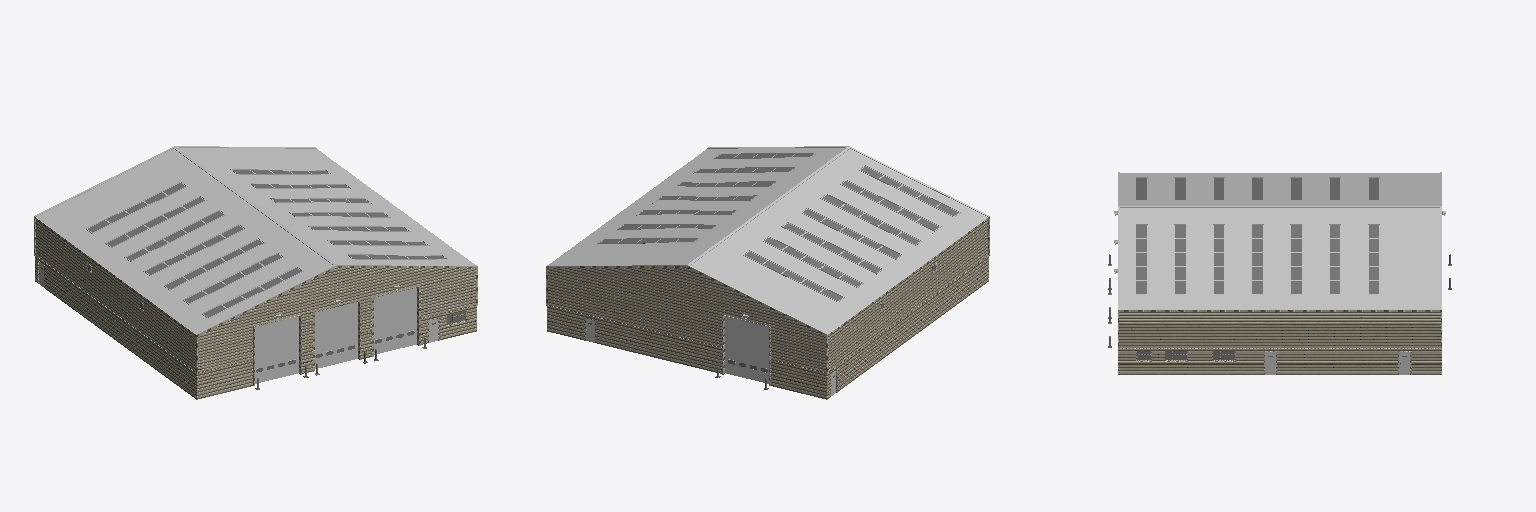
3 views of the same model, side by side, from view 1: azimuth 30°, elevation 25°; view 2: azimuth 150°, elevation 25°; view 3: azimuth 270°, elevation 25° (orthographic).
Parts seen in each view (by area): view 1: WSE_11_LOD0; view 2: WSE_11_LOD0; view 3: WSE_11_LOD0.
Part boxes in pixels (x1,y1,x2,y2): WSE_11_LOD0: (34, 146, 477, 399); WSE_11_LOD0: (546, 146, 989, 399); WSE_11_LOD0: (1108, 172, 1451, 374).
Size of the model in its own units: 25 by 8.55 by 26.5.
Materials: 11 (1 with a texture image).